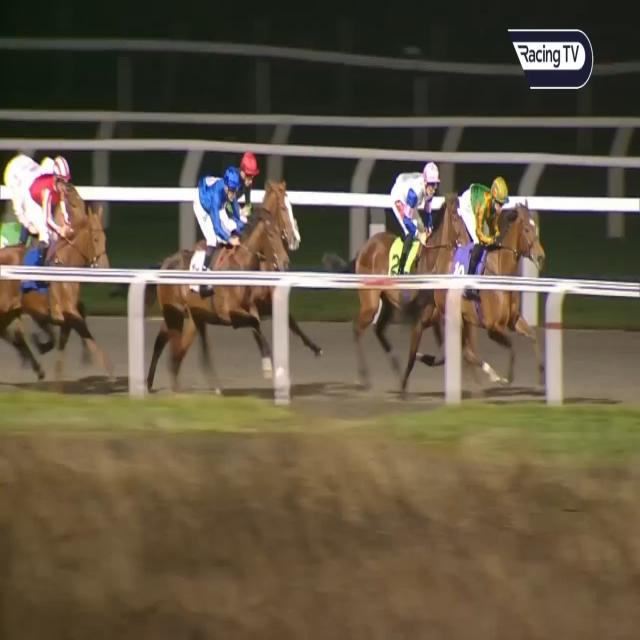horses-racing: (159, 165, 286, 360), (2, 161, 99, 386), (360, 166, 470, 332), (453, 164, 550, 340), (230, 152, 306, 255), (0, 148, 63, 208)
